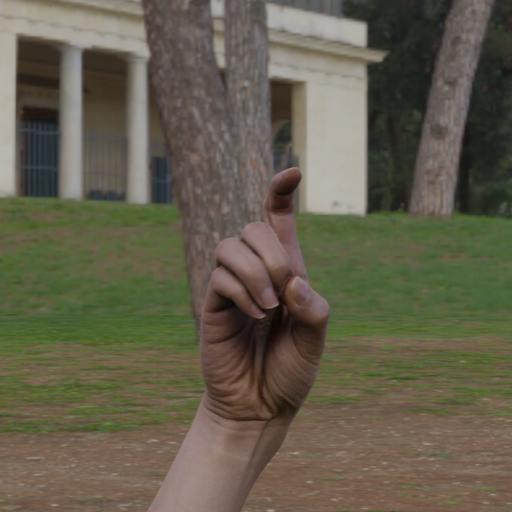X: (192, 168, 334, 416)
